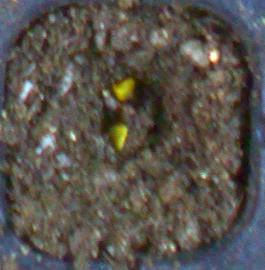chilli seed: (112, 78, 135, 101), (112, 124, 127, 150)
